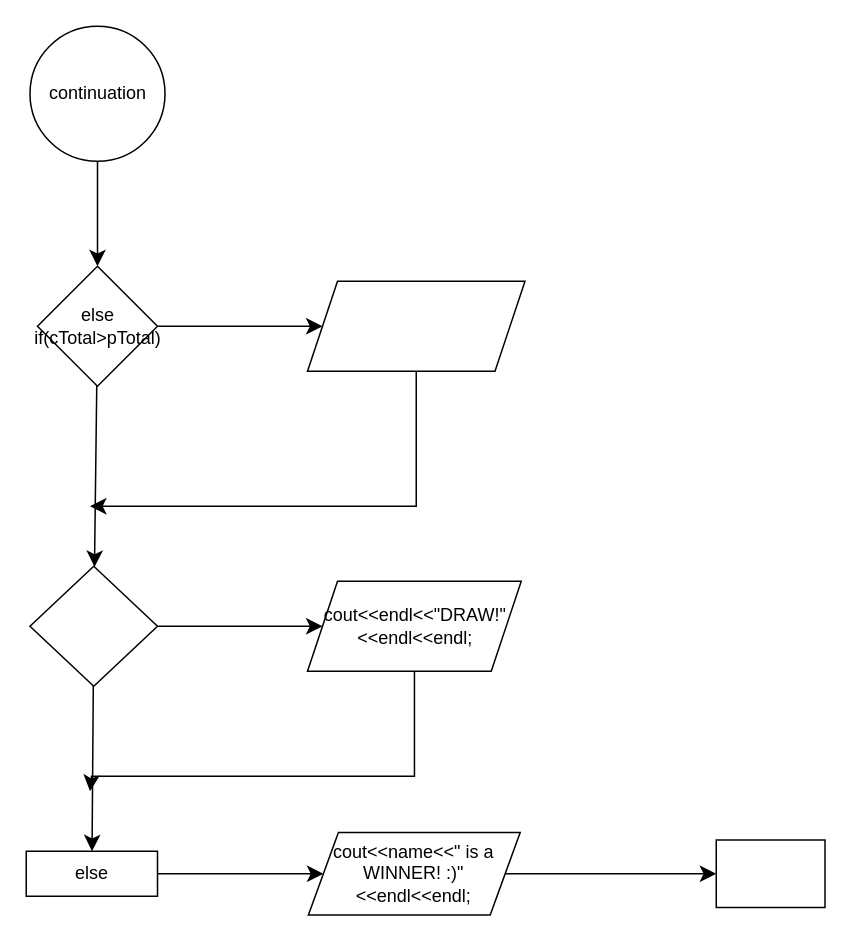
Some shapes in this 852 by 942 pixel diagram are drawn without their labels. Here are the shapes that lost their labels. From the top down, the centre of each, then its label:
point (415, 325): cout << "Dealer wins this round." << endl;
point (93, 625): else if(cTotal==pTotal)
point (770, 873): wins++;
